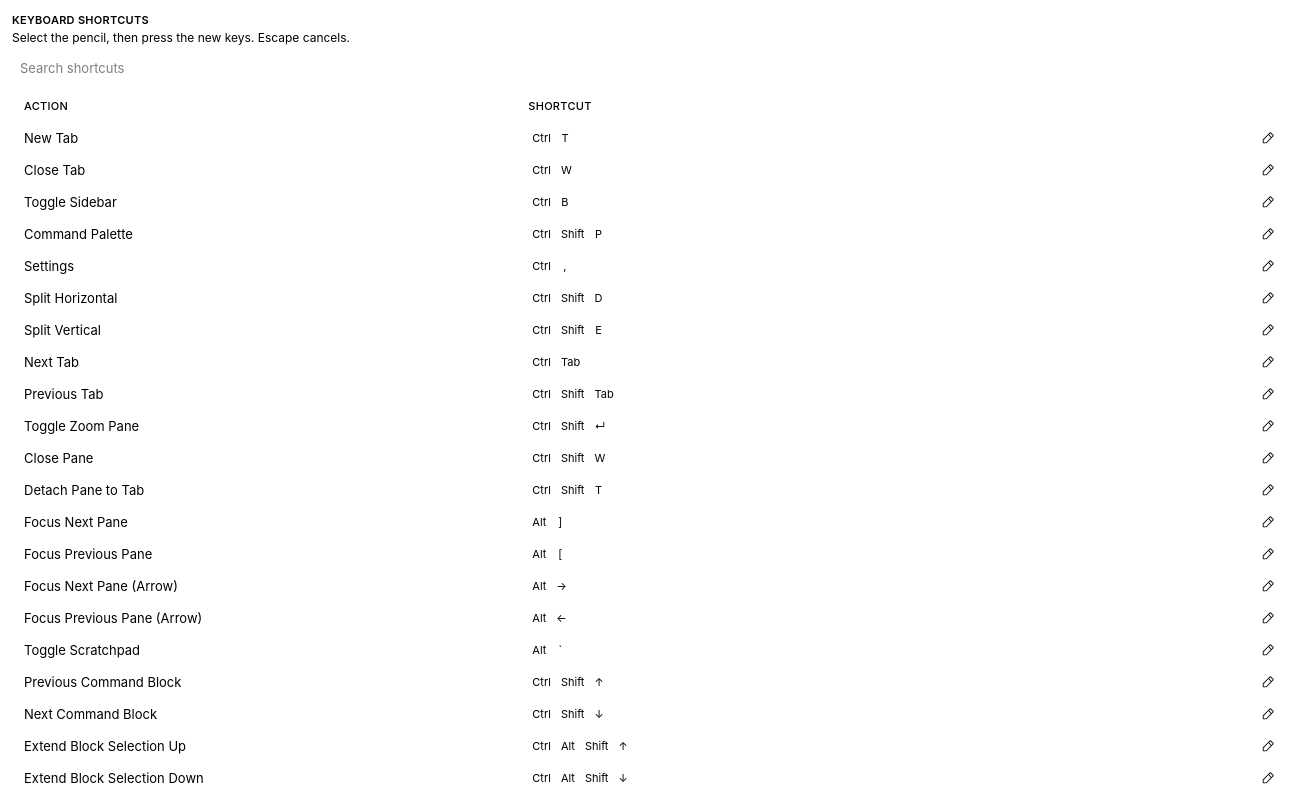
KeybindingsPanel › records a new shortcut and saves it
Step 1. Click the button named "Change shortcut for New Tab" → x=1268, y=138, box [1256,126,1280,150]
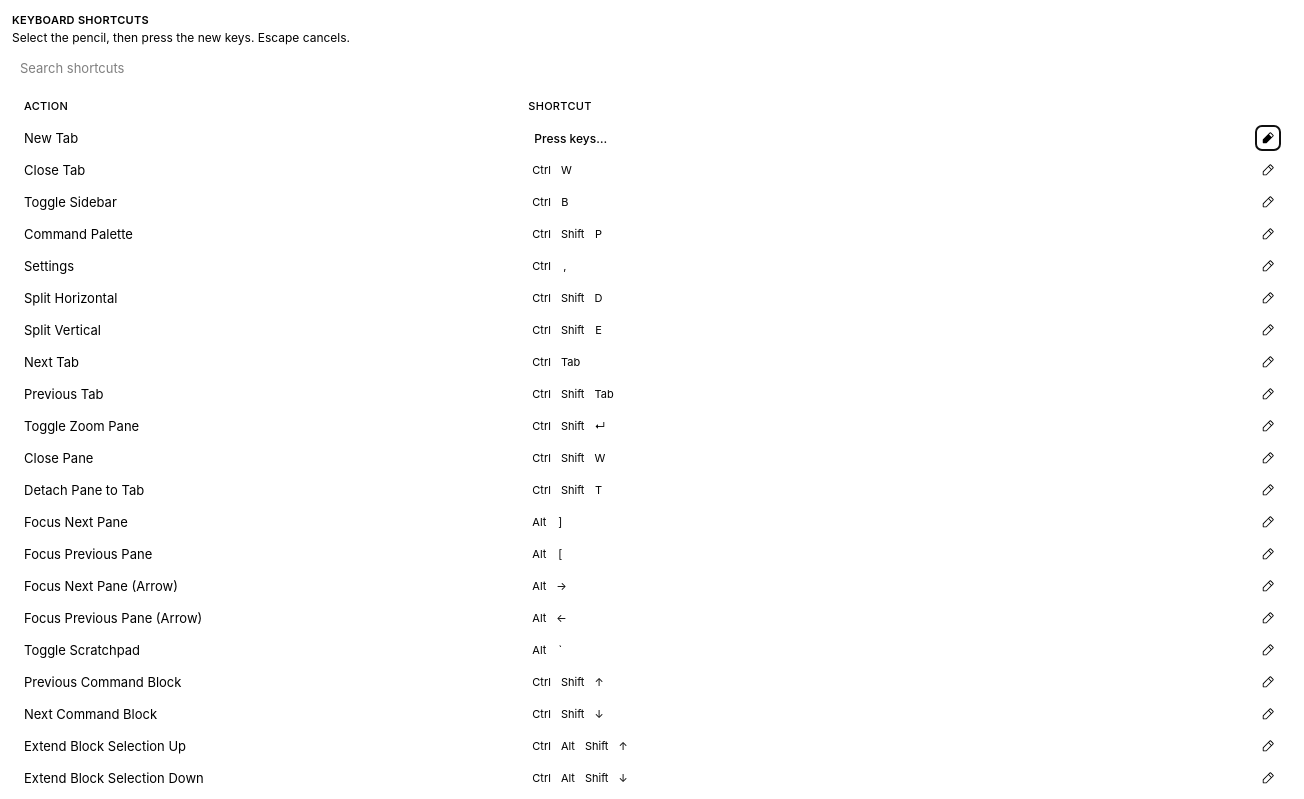
Now the message reads "Press keys…", box [534,130,607,146]
Step 2. Type keys "{Control>}{Shift>}y{/Shift}{/Control}"
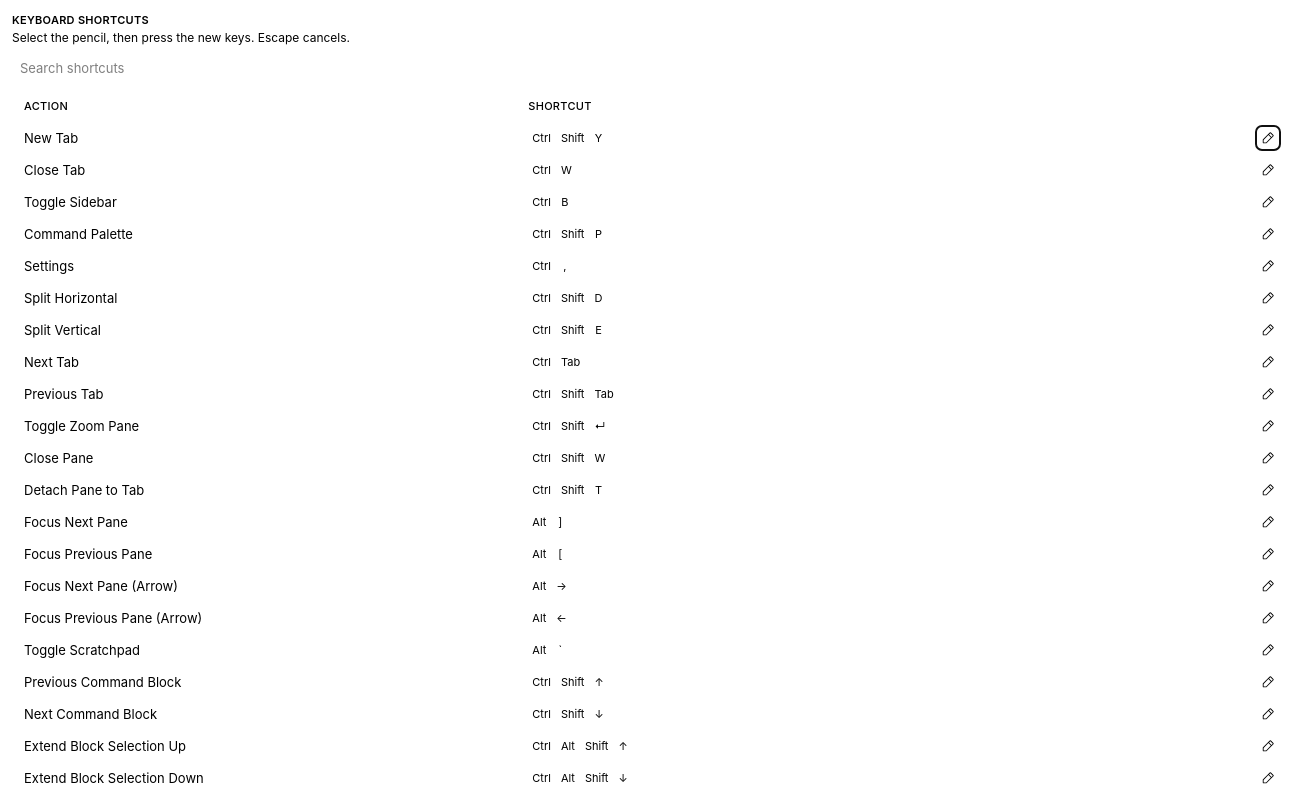
Now the element named "Ctrl+Shift+Y" is shown, box [528,130,606,146]
